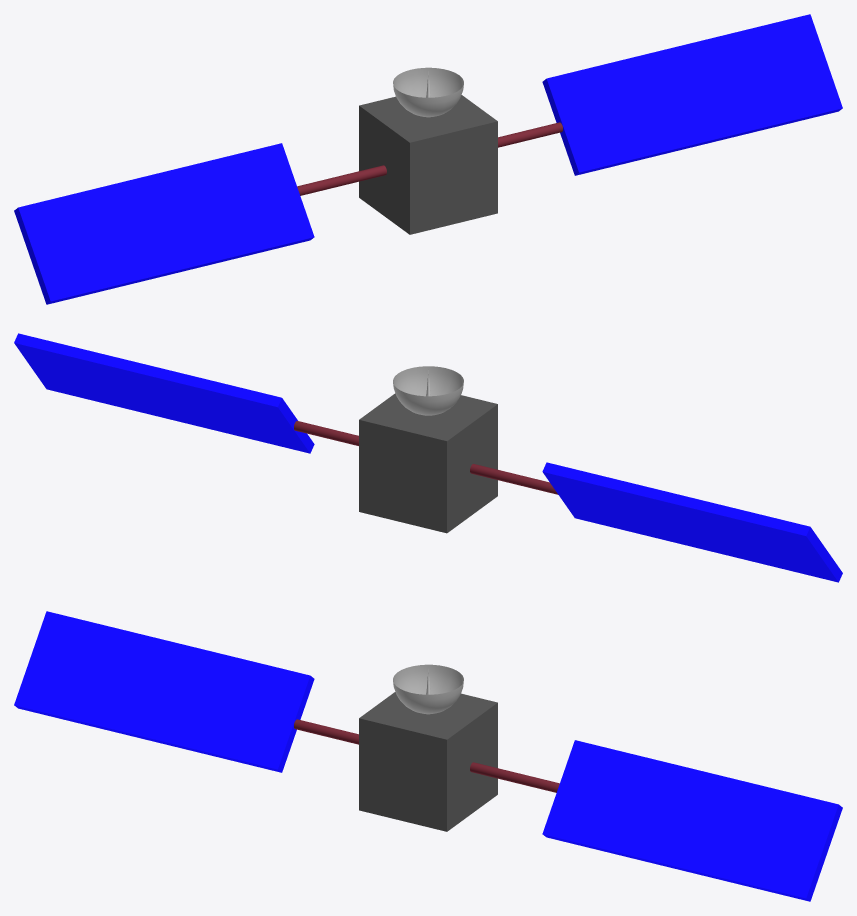
File: tp2_satellite.glb
The picture shows the model from 3 angles, top to bottom: view 1: azimuth 30°, elevation 25°; view 2: azimuth 150°, elevation 25°; view 3: azimuth 330°, elevation 25°; orthographic projection.
Visible parts, largest first — view 1: satellite; view 2: satellite; view 3: satellite.
Boxes of the visible parts, left/top/right/bottom form: satellite: left=14, top=14, right=842, bottom=304; satellite: left=14, top=333, right=842, bottom=582; satellite: left=14, top=611, right=842, bottom=901.
Size of the model in its own units: 17.99 by 2.92 by 2.
